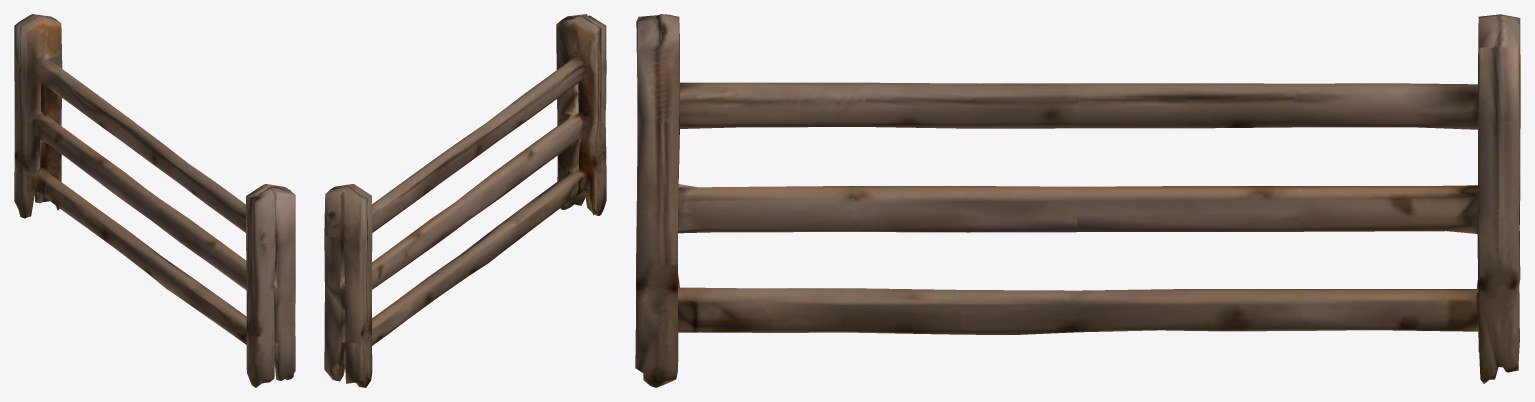
File: farm-fence.glb
The picture shows the model from 3 angles, left to right: view 1: azimuth 30°, elevation 25°; view 2: azimuth 150°, elevation 25°; view 3: azimuth 270°, elevation 25°; orthographic projection. The views are drawn at different scales.
Parts seen in each view (by area): view 1: tripo_node_b9b378db-76cd-4070-8fcd-8772381361ab; view 2: tripo_node_b9b378db-76cd-4070-8fcd-8772381361ab; view 3: tripo_node_b9b378db-76cd-4070-8fcd-8772381361ab.
Part boxes in pixels (box(x1,y1,x2,y2)): tripo_node_b9b378db-76cd-4070-8fcd-8772381361ab: box(14, 14, 295, 387); tripo_node_b9b378db-76cd-4070-8fcd-8772381361ab: box(324, 14, 606, 387); tripo_node_b9b378db-76cd-4070-8fcd-8772381361ab: box(635, 14, 1520, 387).
Size of the model in its own units: 0.0922 by 0.4445 by 0.9992.
Materials: 1 (1 with a texture image).
